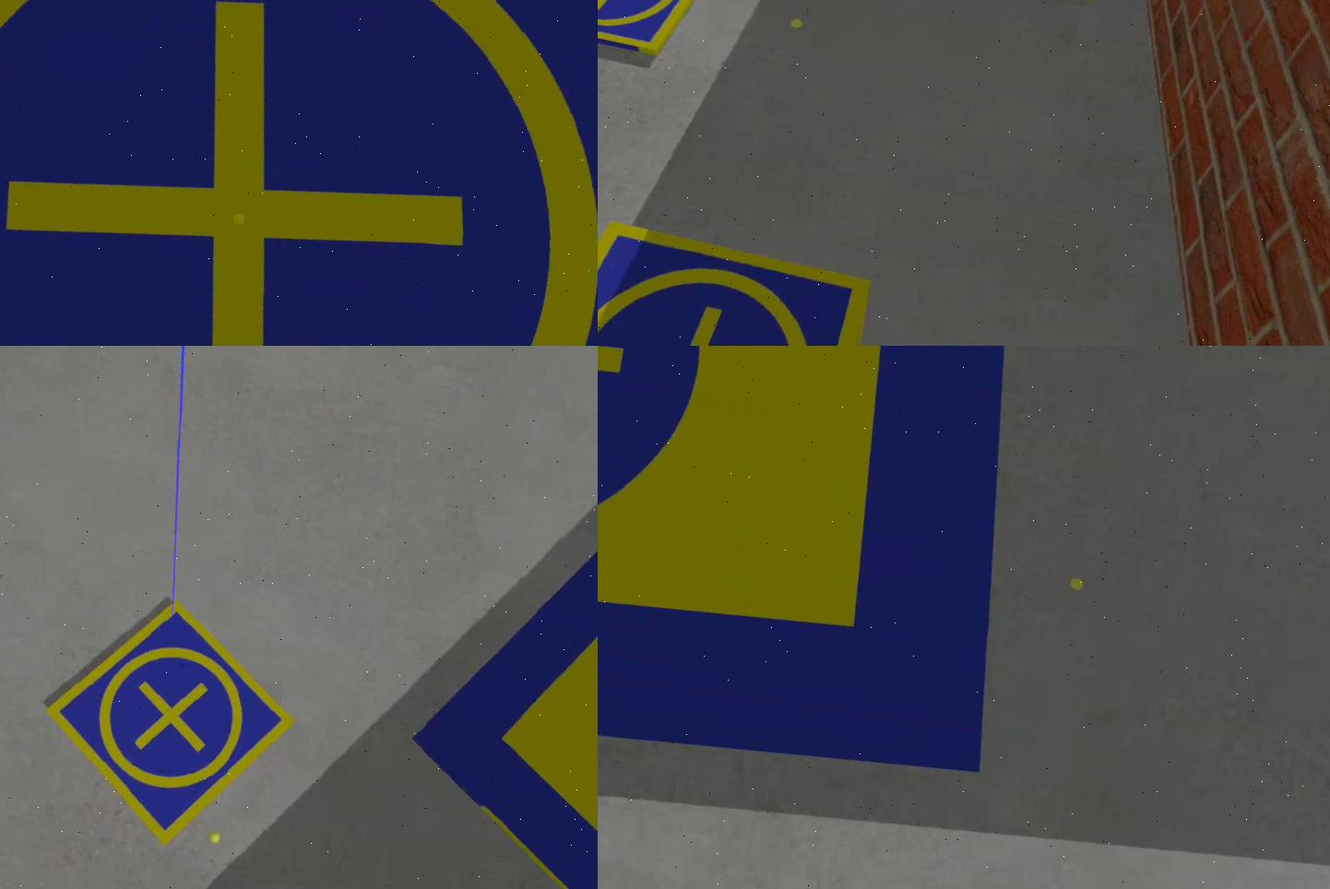large_base: (599, 347, 1074, 807), (383, 406, 599, 889)
small_base: (1, 1, 599, 347), (25, 582, 312, 866), (599, 209, 880, 347), (599, 1, 722, 70)
